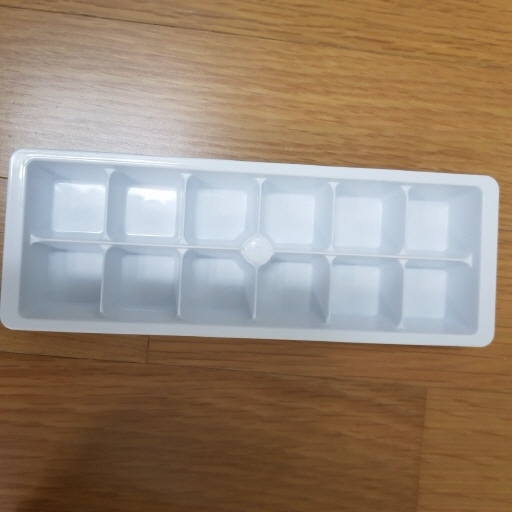Plastic_4: (2, 148, 499, 350)
